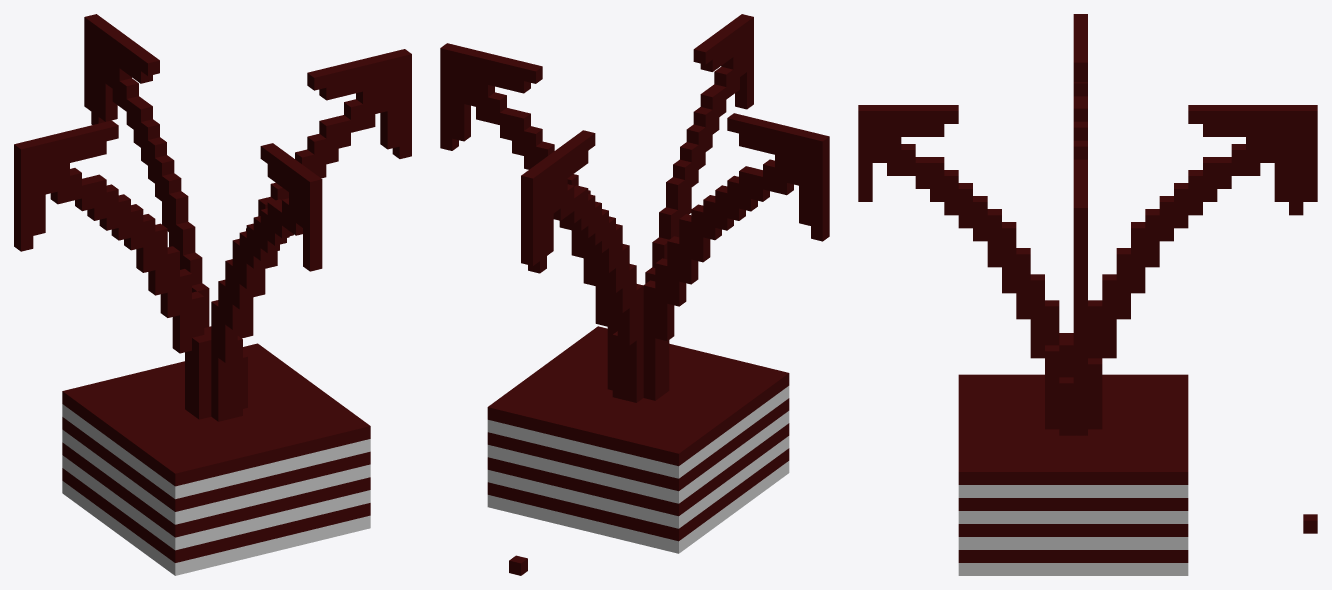
3 renders of one model, left to right at view 1: azimuth 30°, elevation 25°; view 2: azimuth 150°, elevation 25°; view 3: azimuth 270°, elevation 25°, orthographic. The views are drawn at different scales.
Size of the model in its own units: 1.6 by 1.6 by 1.6.
